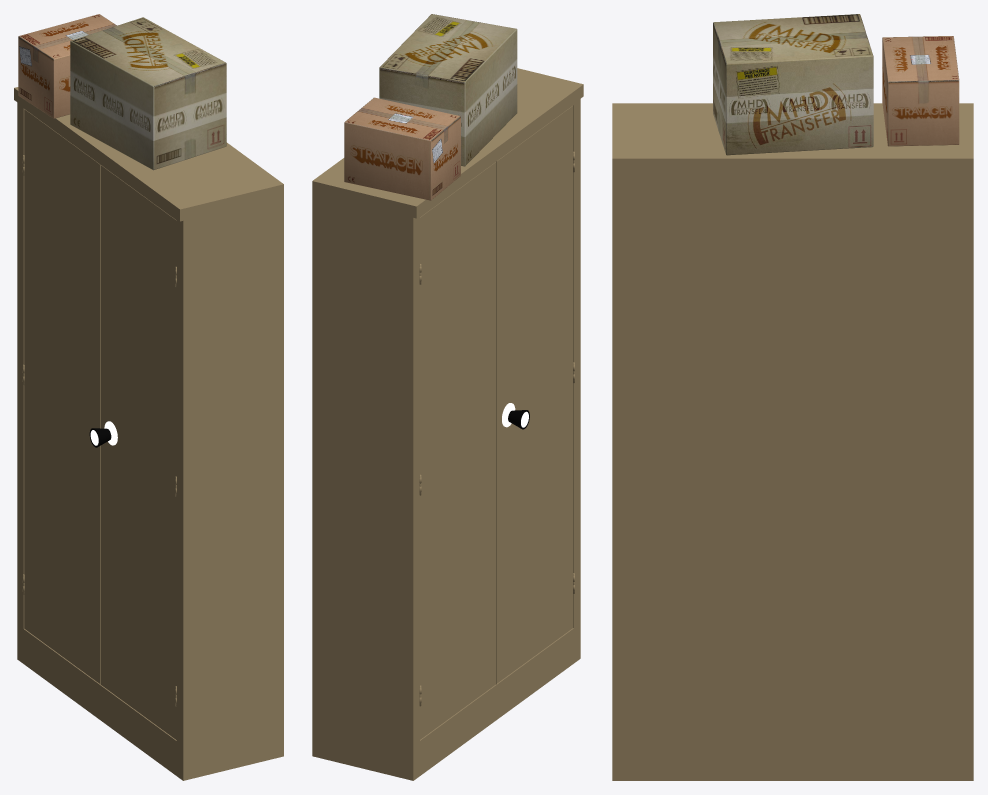
File: Cabinet.fbx
The picture shows the model from 3 angles, left to right: view 1: azimuth 30°, elevation 25°; view 2: azimuth 150°, elevation 25°; view 3: azimuth 270°, elevation 25°; orthographic projection. The views are drawn at different scales.
Visible parts, largest first — view 1: Cabinet, MHD_Transfer, Stratagen_1; view 2: Cabinet, MHD_Transfer, Stratagen_1; view 3: Cabinet, MHD_Transfer, Stratagen_1.
Boxes of the visible parts, left/top/right/bottom form: Cabinet: left=14, top=87, right=283, bottom=780; MHD_Transfer: left=70, top=17, right=226, bottom=170; Stratagen_1: left=18, top=14, right=116, bottom=118; Cabinet: left=312, top=68, right=583, bottom=780; MHD_Transfer: left=379, top=14, right=517, bottom=166; Stratagen_1: left=344, top=97, right=460, bottom=200; Cabinet: left=612, top=103, right=973, bottom=780; MHD_Transfer: left=713, top=14, right=873, bottom=155; Stratagen_1: left=882, top=36, right=959, bottom=146.
Size of the model in its own units: 40.95 by 218 by 100.
Materials: 5 (2 with a texture image).
